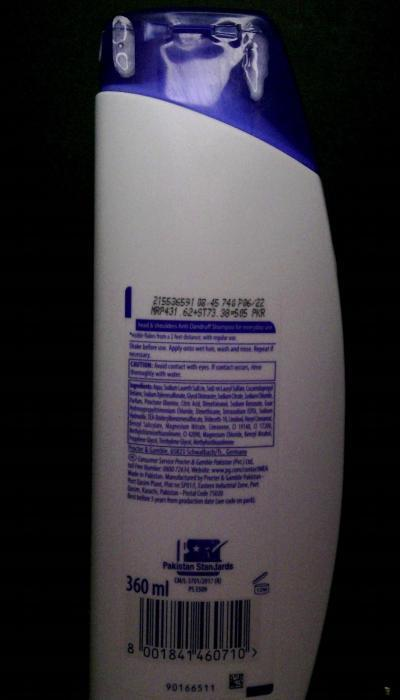pob_unacc: (236, 24, 270, 108), (109, 20, 153, 81)
